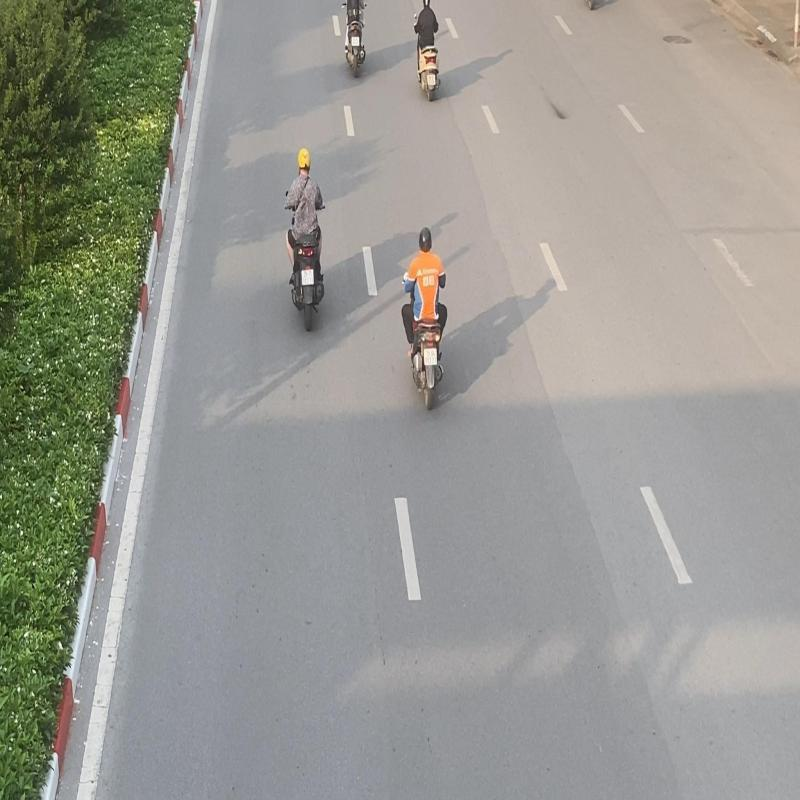helmet: (418, 226, 432, 252), (298, 148, 311, 174)
licenseplate: (423, 348, 437, 366), (302, 268, 314, 286)
motorcyclist: (399, 226, 450, 415), (284, 147, 326, 332)
